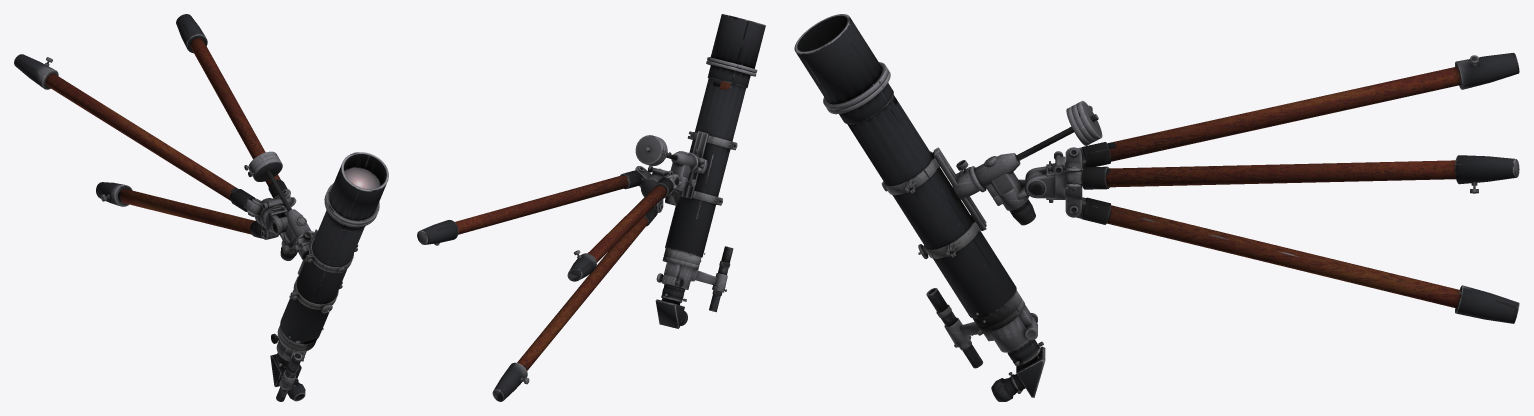
The model's file is telescope.gltf.
The picture shows the model from 3 angles, left to right: view 1: azimuth 30°, elevation 25°; view 2: azimuth 150°, elevation 25°; view 3: azimuth 270°, elevation 25°; orthographic projection. The views are drawn at different scales.
Parts seen in each view (by area): view 1: node-0; view 2: node-0; view 3: node-0.
Part boxes in pixels (box(x1,y1,x2,y2)): node-0: box(14, 14, 388, 401); node-0: box(417, 14, 765, 401); node-0: box(794, 14, 1519, 401).
Bounding box in the file's own units: 68.86 × 107 × 185.
1 material, 1 textured.
